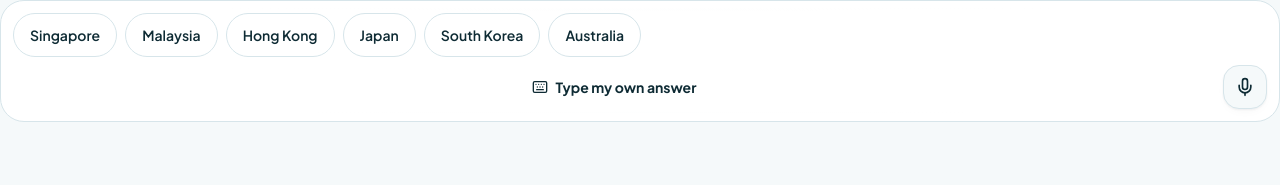
Test: the microphone on a helper › goes back to the quick answers and the microphone returns
Click the button named "Speak your answer": (1245, 87) x1=1223 y1=65 x2=1267 y2=109
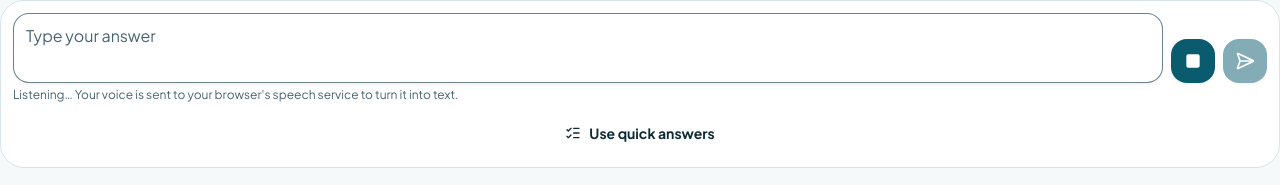
Click the button "Use quick answers": (640, 133) x1=13 y1=111 x2=1267 y2=155
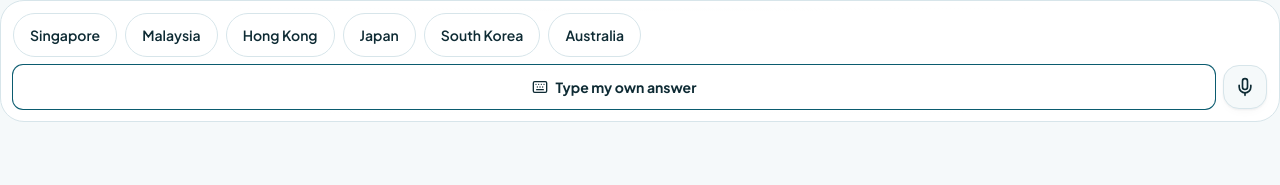
expect the button named "Speak your answer" is shown: met, box x1=1223 y1=65 x2=1267 y2=109
